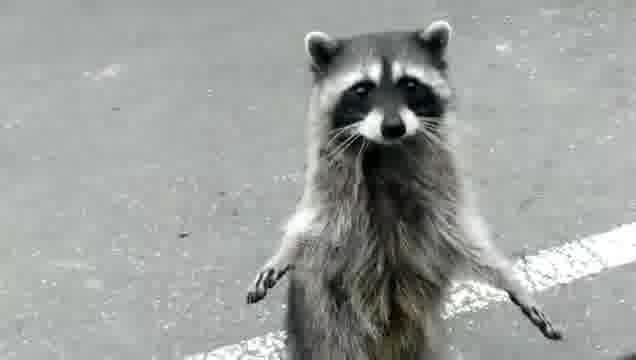raccoon: (244, 21, 564, 360)
